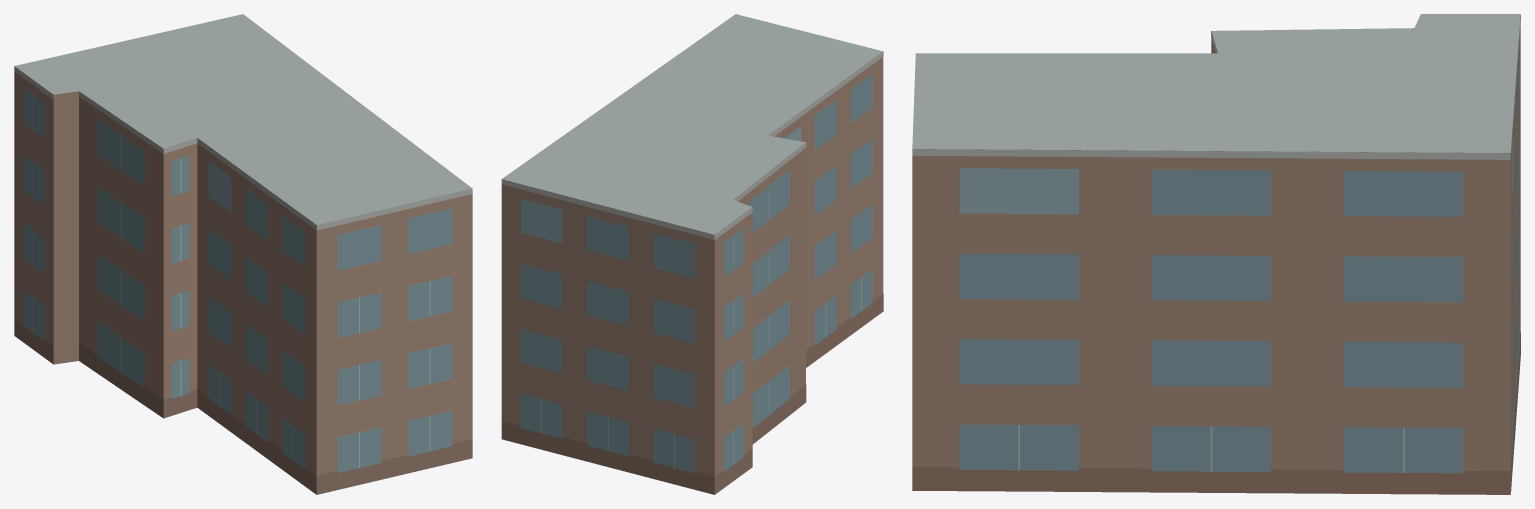
Rendered from residential-f6659ada-f2a9-4ba5-ab95-99e0e0b37f59.glb.
3 renders of one model, left to right at view 1: azimuth 30°, elevation 25°; view 2: azimuth 150°, elevation 25°; view 3: azimuth 270°, elevation 25°, orthographic. The views are drawn at different scales.
Visible parts, largest first — view 1: residential-f6659ada-f2a9-4ba5-ab95-99e0e0b37f59.tmp; view 2: residential-f6659ada-f2a9-4ba5-ab95-99e0e0b37f59.tmp; view 3: residential-f6659ada-f2a9-4ba5-ab95-99e0e0b37f59.tmp.
Part boxes in pixels (<box>): residential-f6659ada-f2a9-4ba5-ab95-99e0e0b37f59.tmp: <box>14,14,472,494</box>; residential-f6659ada-f2a9-4ba5-ab95-99e0e0b37f59.tmp: <box>501,14,883,494</box>; residential-f6659ada-f2a9-4ba5-ab95-99e0e0b37f59.tmp: <box>912,14,1520,494</box>.
Bounding box in the file's own units: 10.66 × 12.2 × 19.69.
